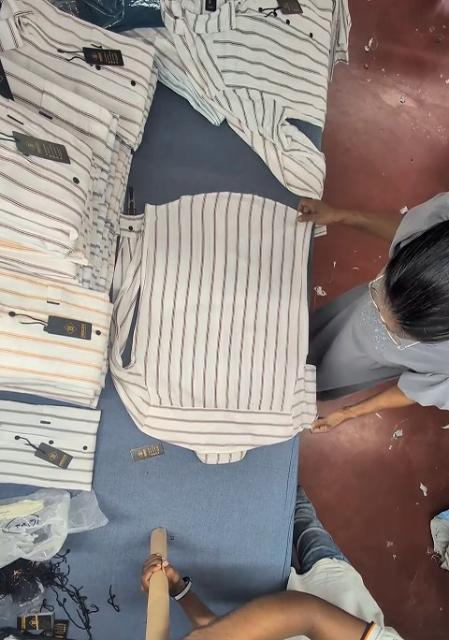new-garment: (110, 193, 314, 462)
